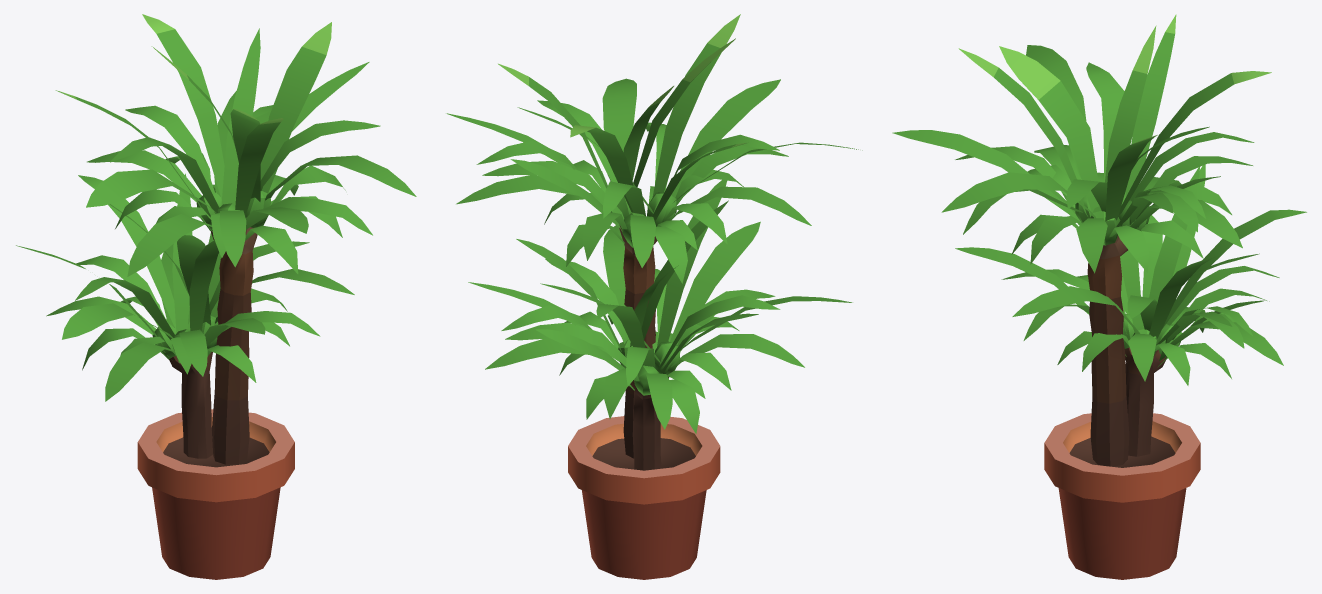
File: planta_palmeira_vaso_cassino_pacote.glb
3 views of the same model, side by side, from view 1: azimuth 30°, elevation 25°; view 2: azimuth 150°, elevation 25°; view 3: azimuth 270°, elevation 25° (orthographic). The views are drawn at different scales.
Parts seen in each view (by area): view 1: planta_palmeira_vaso_cassino_pacote; view 2: planta_palmeira_vaso_cassino_pacote; view 3: planta_palmeira_vaso_cassino_pacote.
Part boxes in pixels (<box>): planta_palmeira_vaso_cassino_pacote: <box>16,14,416,579</box>; planta_palmeira_vaso_cassino_pacote: <box>446,14,862,579</box>; planta_palmeira_vaso_cassino_pacote: <box>892,14,1306,579</box>.
Size of the model in its own units: 1.76 by 2.36 by 1.74.
1 material, 1 textured.
